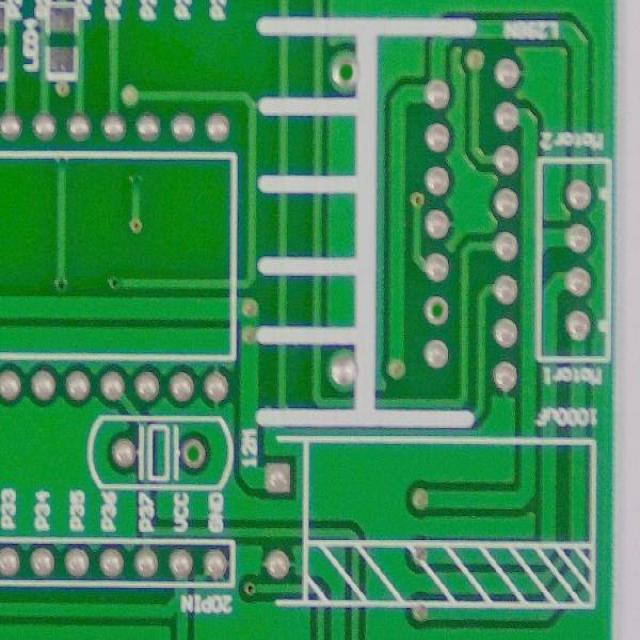missing hole: (330, 45, 364, 99), (178, 432, 210, 476), (422, 291, 452, 329)
